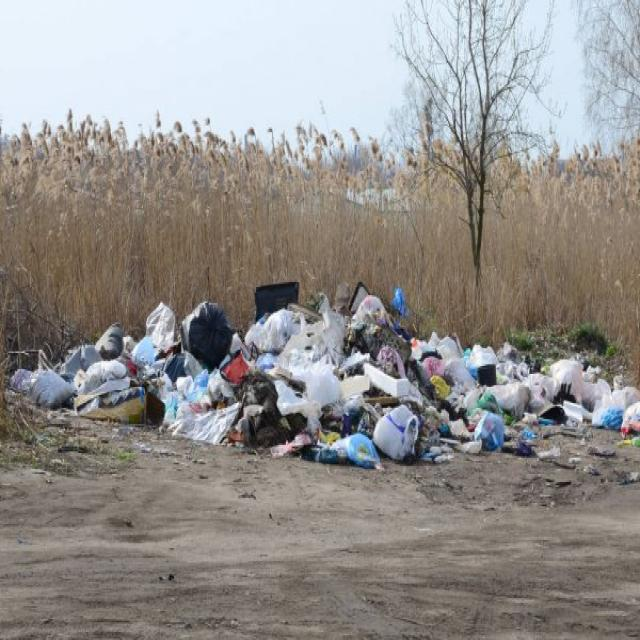garbage: (153, 260, 629, 539)
